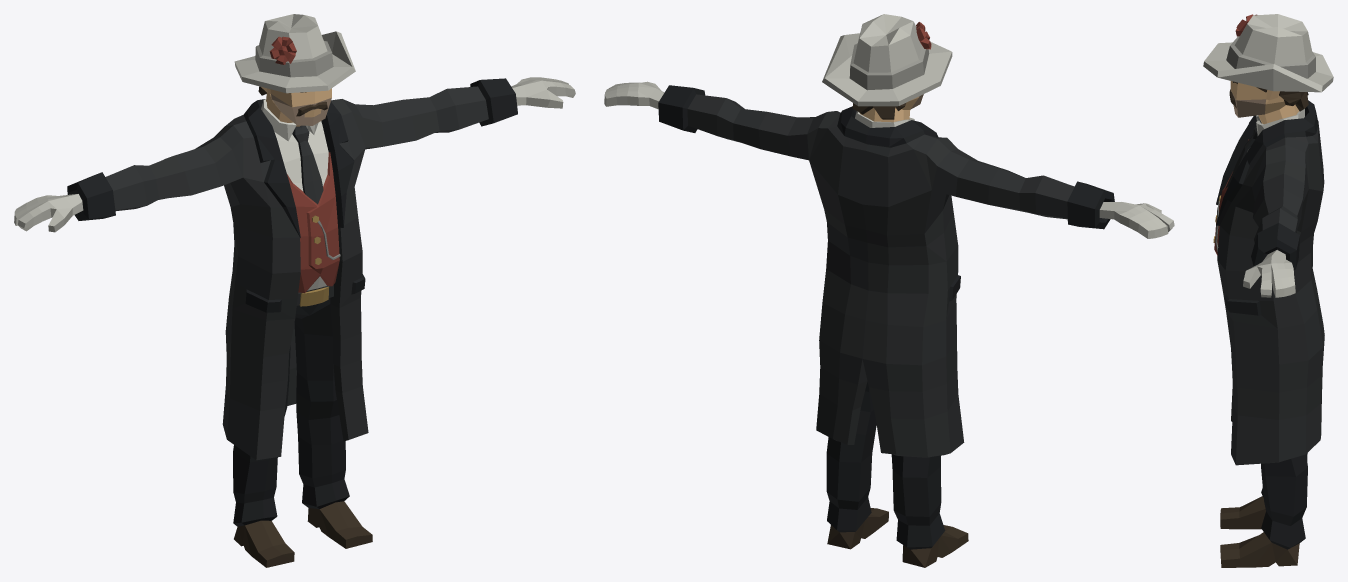
Rendered from Boss_Mafia_01.fbx.
3 renders of one model, left to right at view 1: azimuth 30°, elevation 25°; view 2: azimuth 150°, elevation 25°; view 3: azimuth 270°, elevation 25°, orthographic.
Visible parts, largest first — view 1: Boss_Mafia_01; view 2: Boss_Mafia_01; view 3: Boss_Mafia_01.
Part boxes in pixels (x1=…): Boss_Mafia_01: x1=14, y1=14, x2=575, y2=567; Boss_Mafia_01: x1=604, y1=14, x2=1174, y2=567; Boss_Mafia_01: x1=1203, y1=14, x2=1333, y2=567.
Bounding box in the file's own units: 2.03 × 1.81 × 0.4096.
